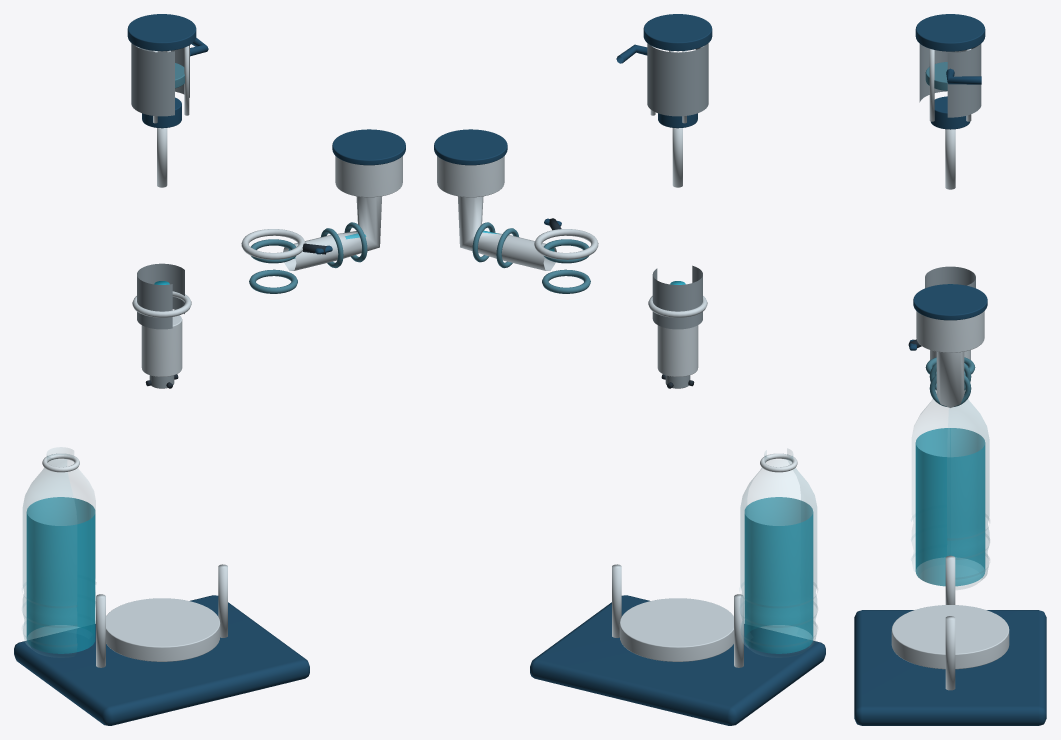
File: filler-exploded.glb
3 renders of one model, left to right at view 1: azimuth 30°, elevation 25°; view 2: azimuth 150°, elevation 25°; view 3: azimuth 270°, elevation 25°, orthographic.
Visible parts, largest first — view 1: Principle display base, Visible liquid volume, Rotor_PET and safety glazing, Rotor_Polished sanitary steel.001, Rotor_Polished sanitary steel, Actuator cutaway body, Rotor_Deep blue powder coating, Rotor_Brushed stainless steel, Rotor_Polished sanitary steel.002, Supply chamber lid, Rotor_Food-contact seal, Rotor_Polished sanitary steel.003 (+2 smaller); view 2: Principle display base, Rotor_PET and safety glazing, Visible liquid volume, Rotor_Polished sanitary steel.001, Rotor_Polished sanitary steel, Actuator cutaway body, Rotor_Deep blue powder coating, Rotor_Polished sanitary steel.002, Rotor_Brushed stainless steel, Supply chamber lid, Rotor_Food-contact seal, Tri-clamp segmented coupling (+2 smaller); view 3: Principle display base, Visible liquid volume, Rotor_PET and safety glazing, Rotor_Polished sanitary steel.001, Rotor_Polished sanitary steel, Rotor_Deep blue powder coating, Actuator cutaway body, Supply chamber lid, Rotor_Polished sanitary steel.003, Rotor_Brushed stainless steel, Rotor_Food-contact seal.001, Pneumatic piston.
Boxes of the visible parts, box(x1,y1,x2,y2) form: Principle display base: box(14, 595, 309, 725); Visible liquid volume: box(26, 497, 95, 653); Rotor_PET and safety glazing: box(22, 447, 96, 657); Rotor_Polished sanitary steel.001: box(96, 564, 227, 667); Rotor_Polished sanitary steel: box(283, 156, 402, 270); Actuator cutaway body: box(131, 43, 189, 116); Rotor_Deep blue powder coating: box(127, 14, 208, 128); Rotor_Brushed stainless steel: box(137, 263, 184, 388); Rotor_Polished sanitary steel.002: box(132, 291, 191, 376); Supply chamber lid: box(332, 129, 405, 165); Rotor_Food-contact seal: box(249, 239, 297, 293); Rotor_Polished sanitary steel.003: box(136, 46, 189, 187); Principle display base: box(530, 595, 825, 725); Rotor_PET and safety glazing: box(740, 449, 817, 657); Visible liquid volume: box(744, 497, 813, 653); Rotor_Polished sanitary steel.001: box(612, 564, 743, 667); Rotor_Polished sanitary steel: box(437, 156, 556, 270); Actuator cutaway body: box(647, 43, 708, 116); Rotor_Deep blue powder coating: box(616, 14, 712, 128); Rotor_Polished sanitary steel.002: box(648, 296, 707, 376); Rotor_Brushed stainless steel: box(652, 265, 702, 388); Supply chamber lid: box(434, 129, 507, 165); Rotor_Food-contact seal: box(542, 239, 590, 293); Tri-clamp segmented coupling: box(534, 229, 598, 259); Principle display base: box(854, 610, 1046, 725); Visible liquid volume: box(915, 428, 985, 586); Rotor_PET and safety glazing: box(911, 399, 989, 589); Rotor_Polished sanitary steel.001: box(891, 555, 1009, 690); Rotor_Polished sanitary steel: box(916, 311, 984, 407); Rotor_Deep blue powder coating: box(915, 14, 985, 129); Actuator cutaway body: box(919, 44, 981, 117); Supply chamber lid: box(913, 284, 987, 320); Rotor_Polished sanitary steel.003: box(929, 49, 971, 189); Rotor_Brushed stainless steel: box(925, 266, 975, 288); Rotor_Food-contact seal.001: box(929, 363, 971, 406); Pneumatic piston: box(925, 62, 947, 90).
Bounding box in the file's own units: 1.41 × 2.31 × 0.62.
